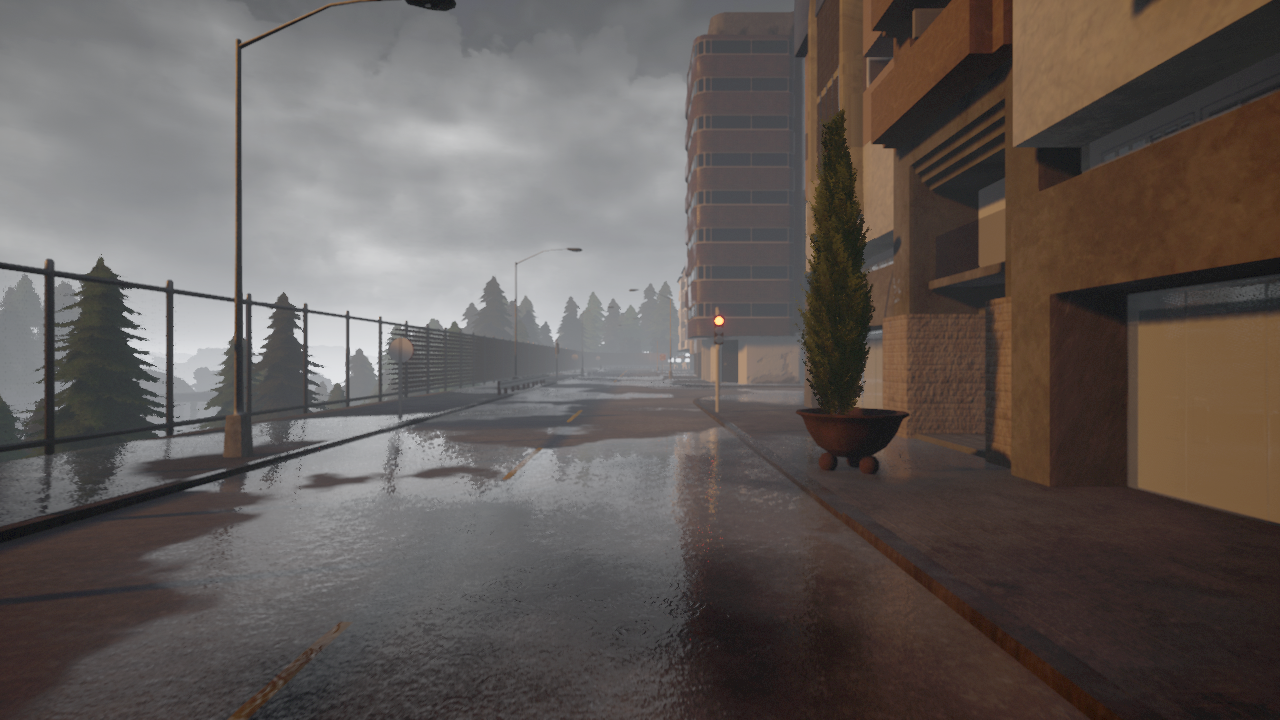red: (712, 314, 724, 344)
